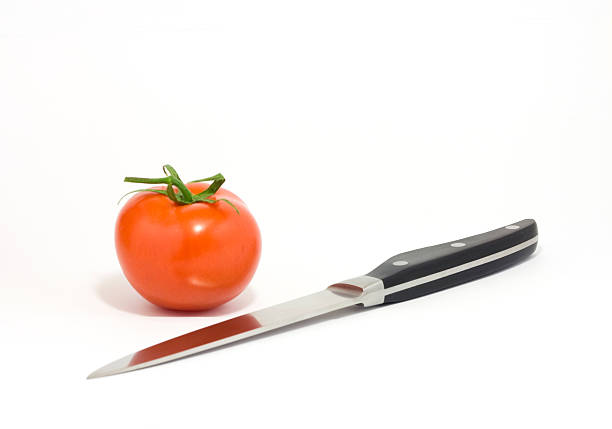knife: (84, 216, 541, 382)
